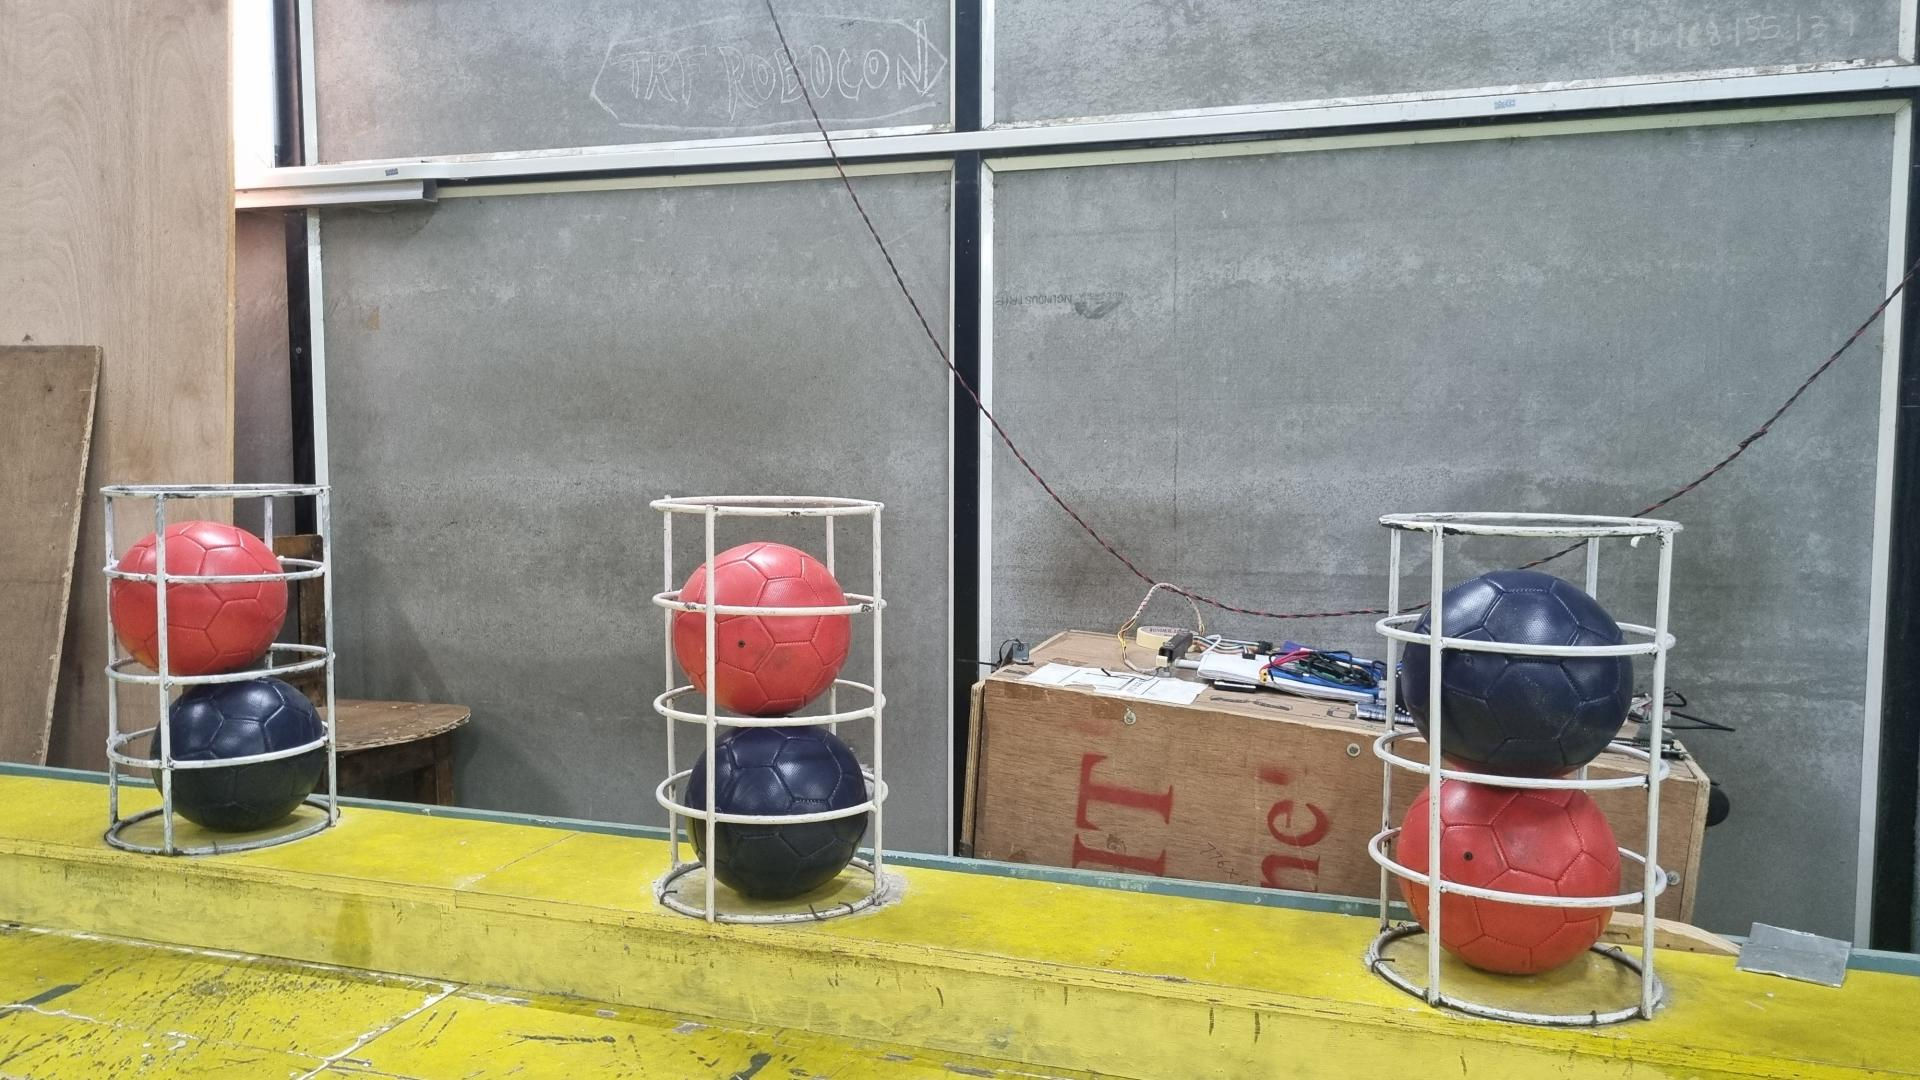dhoka: (1400, 574, 1634, 779), (684, 723, 868, 899), (148, 679, 327, 832)
laale: (1395, 775, 1623, 975), (675, 542, 852, 717), (112, 520, 289, 676)
